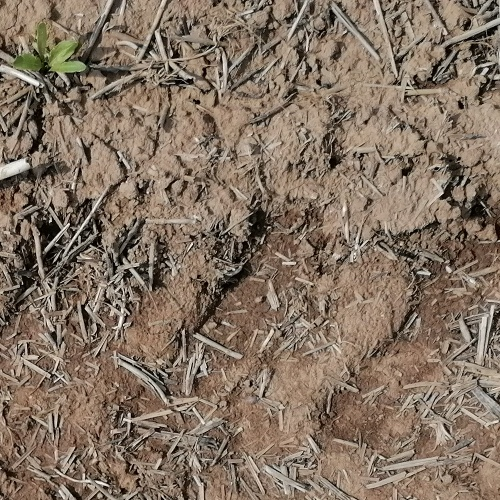beet: (10, 21, 89, 79)
